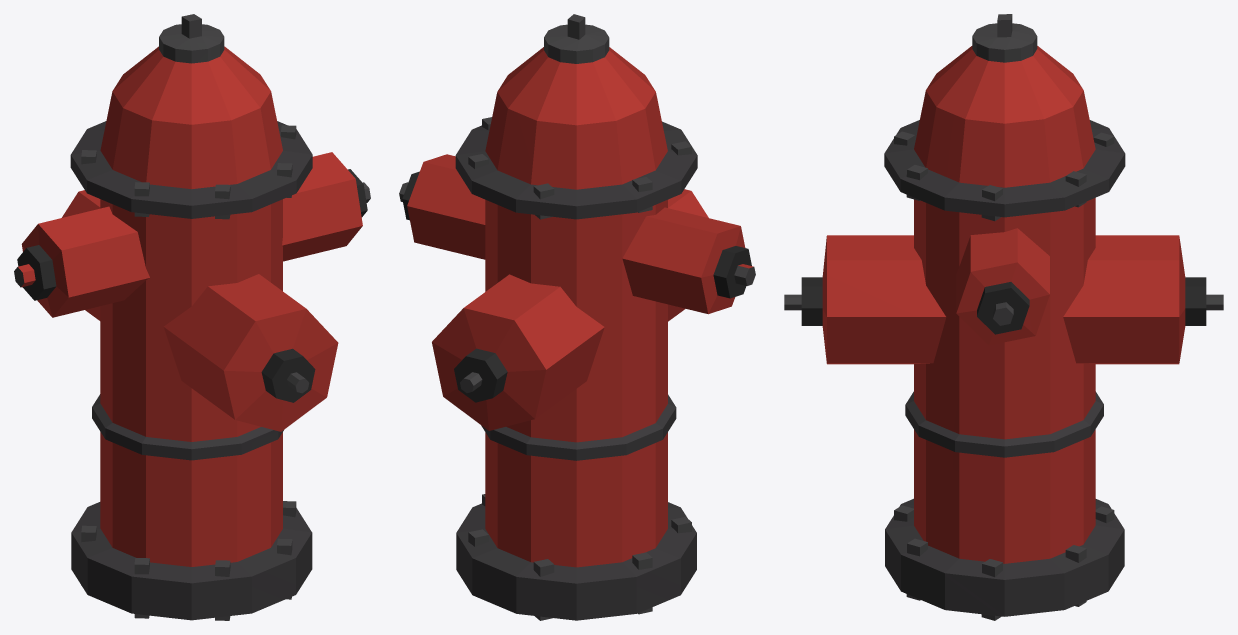
The model's file is SM_hydrant.gltf.
3 renders of one model, left to right at view 1: azimuth 30°, elevation 25°; view 2: azimuth 150°, elevation 25°; view 3: azimuth 270°, elevation 25°, orthographic.
Visible parts, largest first — view 1: SM_hydrant; view 2: SM_hydrant; view 3: SM_hydrant.
Part boxes in pixels (<box>): SM_hydrant: <box>14,14,370,620</box>; SM_hydrant: <box>399,14,755,620</box>; SM_hydrant: <box>784,14,1223,620</box>.
Bounding box in the file's own units: 0.6576 × 1.01 × 0.7253.
Materials: 1 (1 with a texture image).
